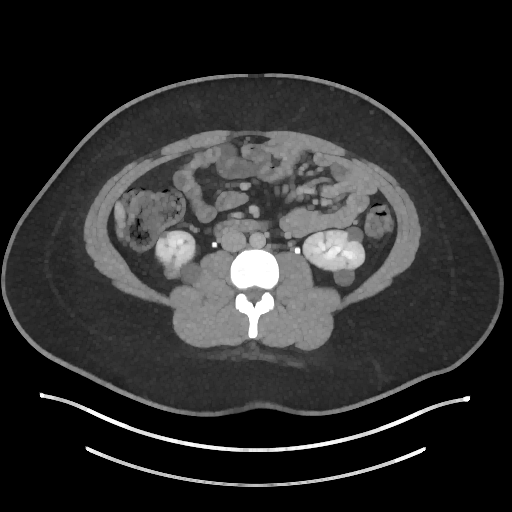Lesion: (163, 257, 182, 282)
